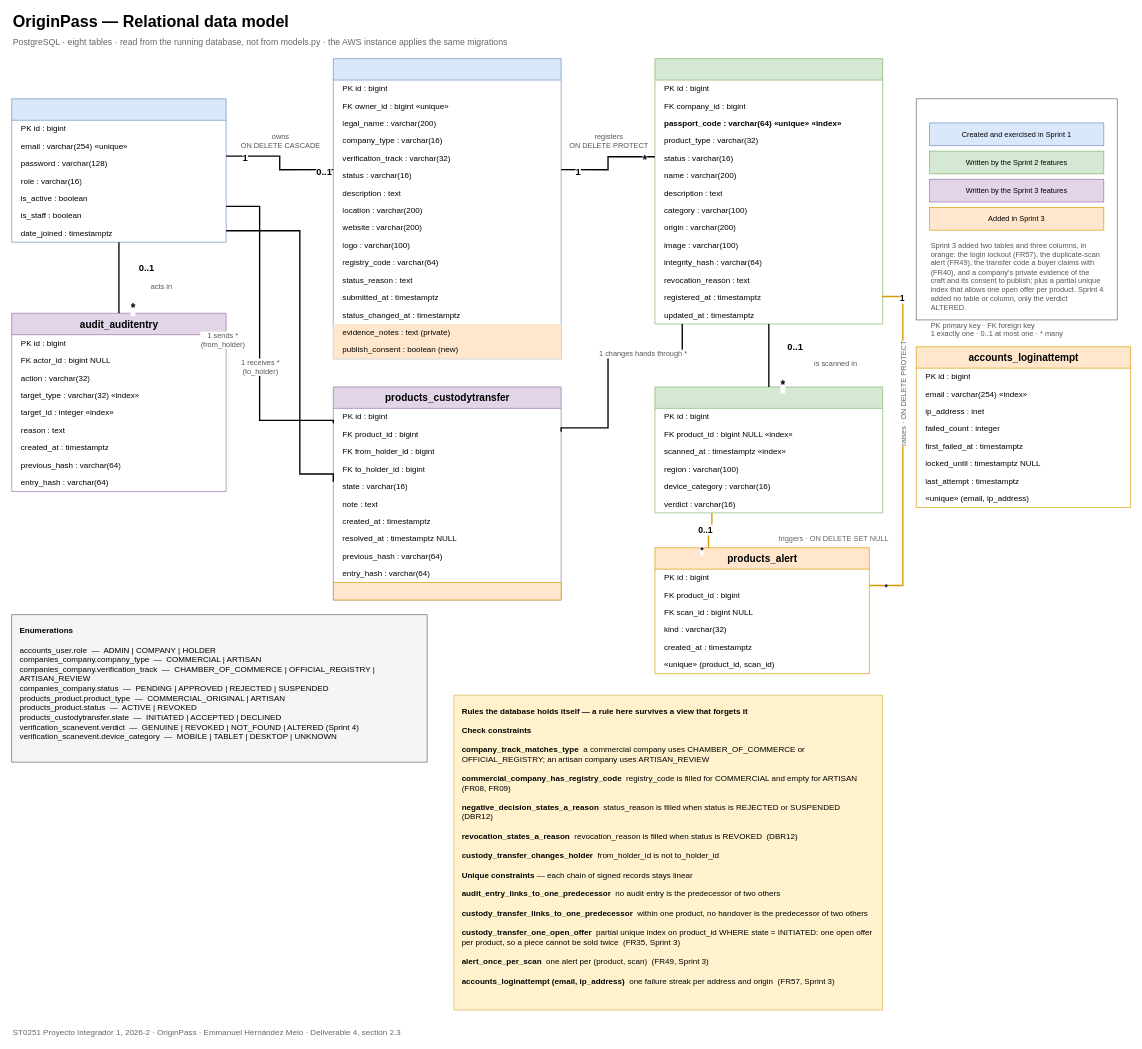
This 1142x1049 diagram has some shape labels left out. Each missing label, with the box of its shape:
accounts_user: (11, 98, 226, 242)
companies_company: (333, 58, 561, 359)
Legend: (916, 98, 1117, 320)
products_product: (654, 58, 883, 324)
transfer_code : uuid «unique» (Sprint 3): (333, 582, 561, 600)
verification_scanevent: (654, 386, 883, 513)
